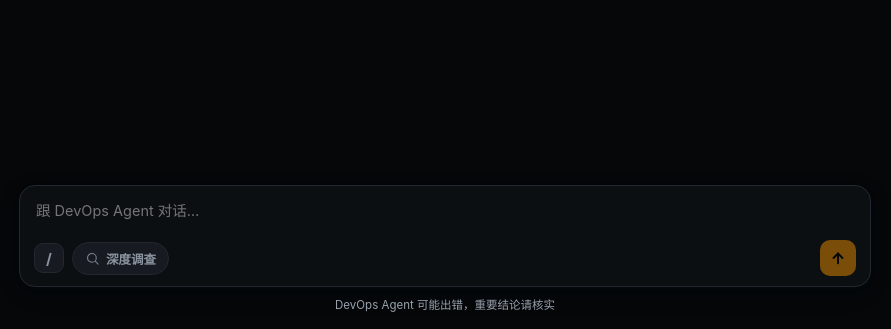
Scenario: 通用会话选了 DevOps Agent 之后的 Composer（objMode） › `/`（skill）保留且可用 —— 这条路径上 skill 是真生效的（BFF 内联进 DevOps Agent 的输入）
Expected: the text box is shown, [34,198,856,228]
Step 1. Click the button with class "cmd-btn" → point(49, 258), box [34,243,64,273]
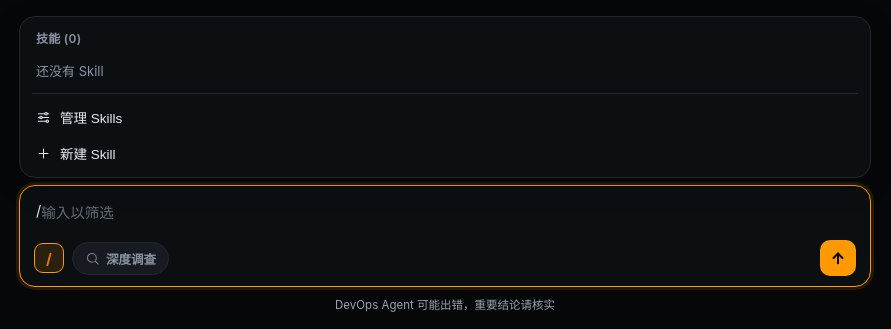
Expected: the element with class "cmd-menu" is shown, [19,16,871,178]
Expected: the text box holds "/", [34,198,856,228]
